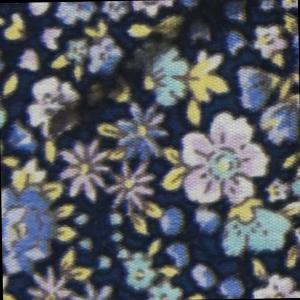Stain: (41, 1, 251, 147)
